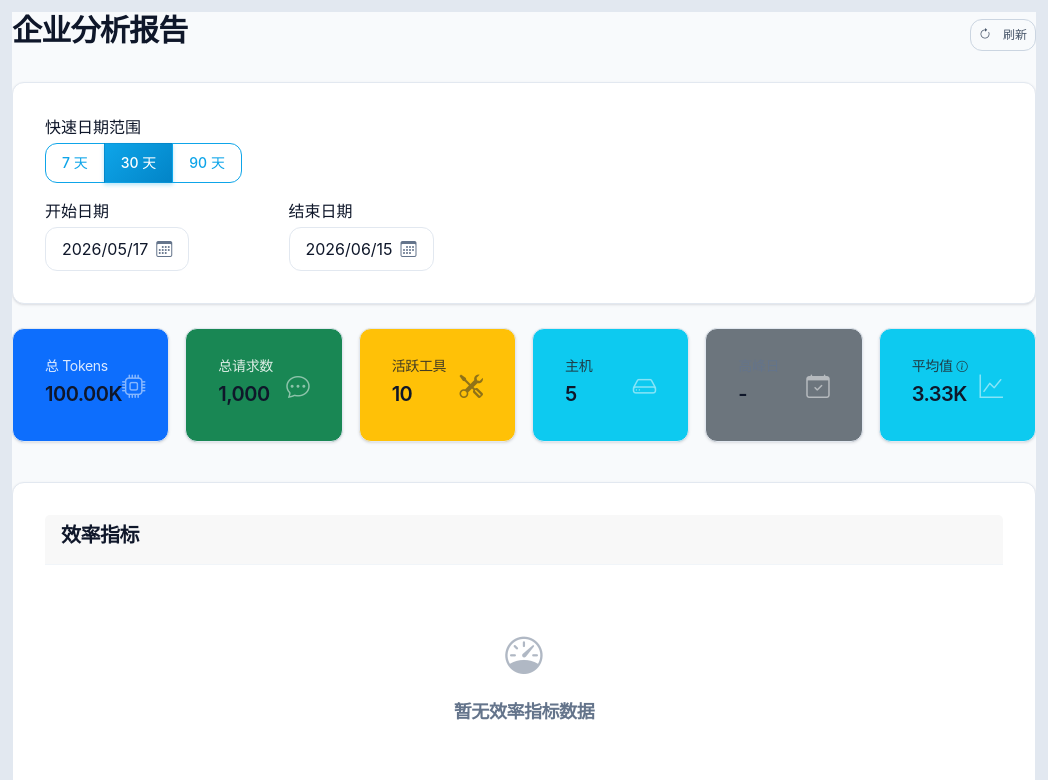
Test: EnterpriseReport Component › Quick range highlight (Issue #3255) › switches to the last 7 days and highlights "7 天" when clicked
Check: the text "快速日期范围" is shown, box 45,116 -> 141,136
Click the button "7 天" at (75, 162), box 45,142 -> 105,182
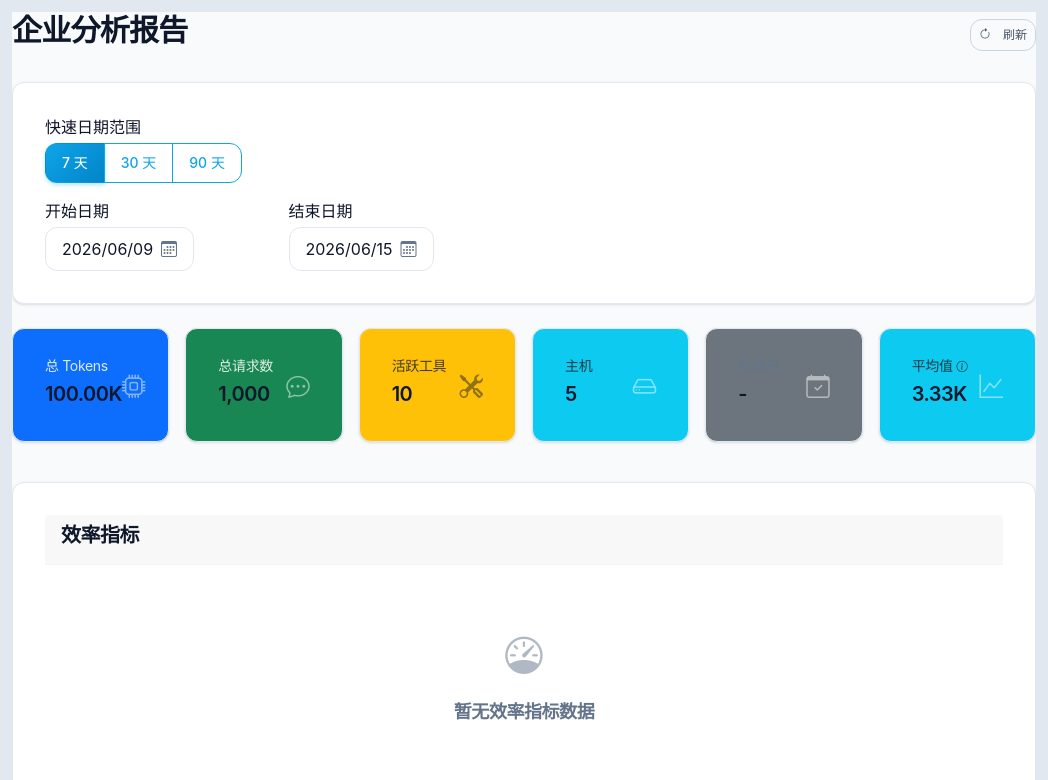
Check: the button "2026/06/15" is shown, box 288,226 -> 434,270
Check: the button "2026/06/09" is shown, box 45,226 -> 194,270
